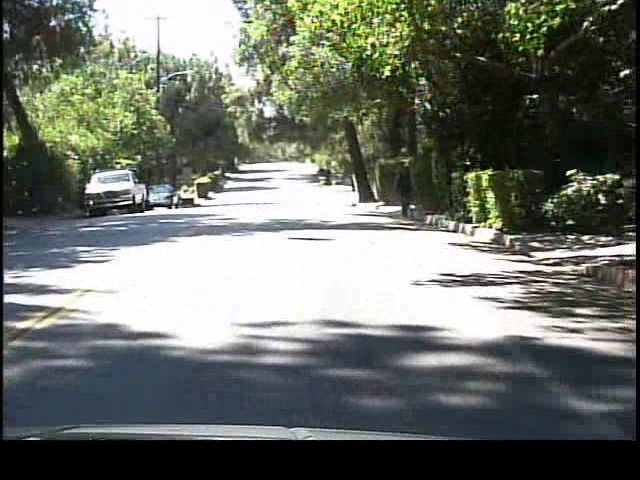person: (394, 160, 415, 219)
